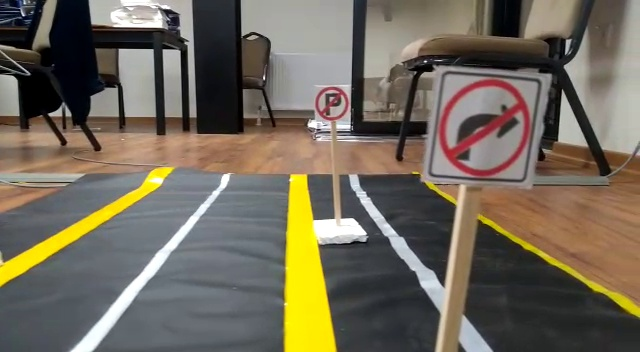park_yapilmaz: (313, 85, 351, 123)
saga_donulmez: (436, 69, 534, 184)
